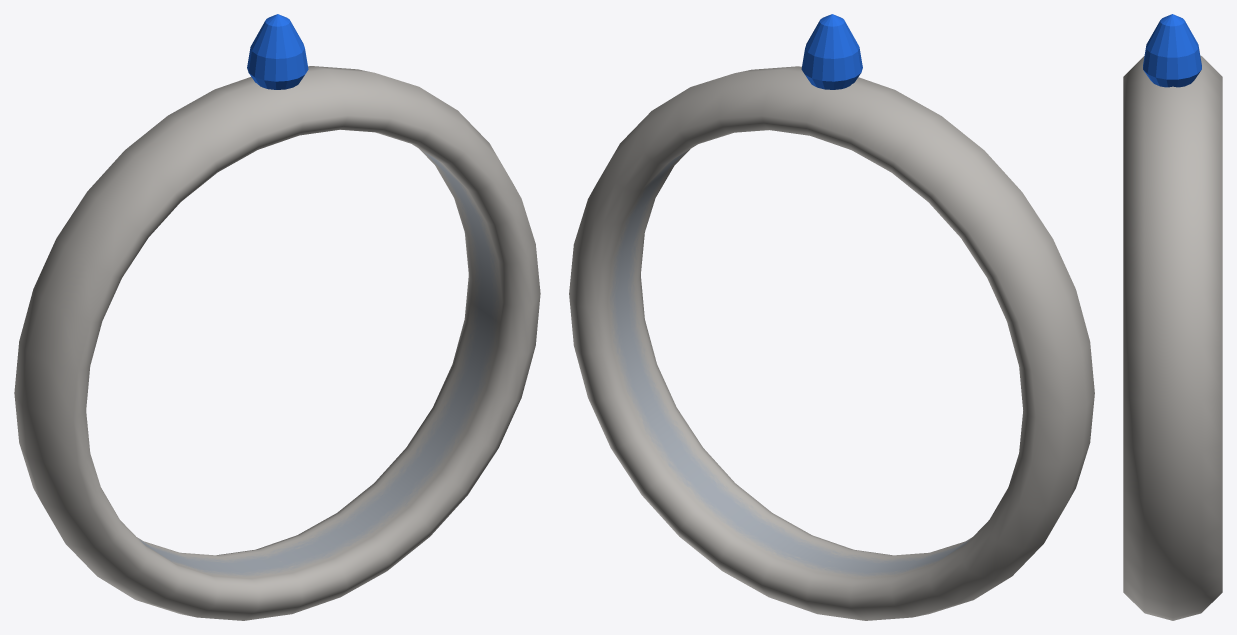
File: Ring.gltf
3 views of the same model, side by side, from view 1: azimuth 30°, elevation 25°; view 2: azimuth 150°, elevation 25°; view 3: azimuth 270°, elevation 25° (orthographic). The views are drawn at different scales.
Visible parts, largest first — view 1: ring_base, gem_blue; view 2: ring_base, gem_blue; view 3: ring_base, gem_blue.
Part boxes in pixels (x1,y1,x2,y2): ring_base: (14,66,540,620); gem_blue: (247,14,308,89); ring_base: (569,66,1094,620); gem_blue: (801,14,862,89); ring_base: (1123,55,1222,620); gem_blue: (1143,14,1201,87).
Bounding box in the file's own units: 40.99 × 45.79 × 7.1.
2 materials, 1 textured.
